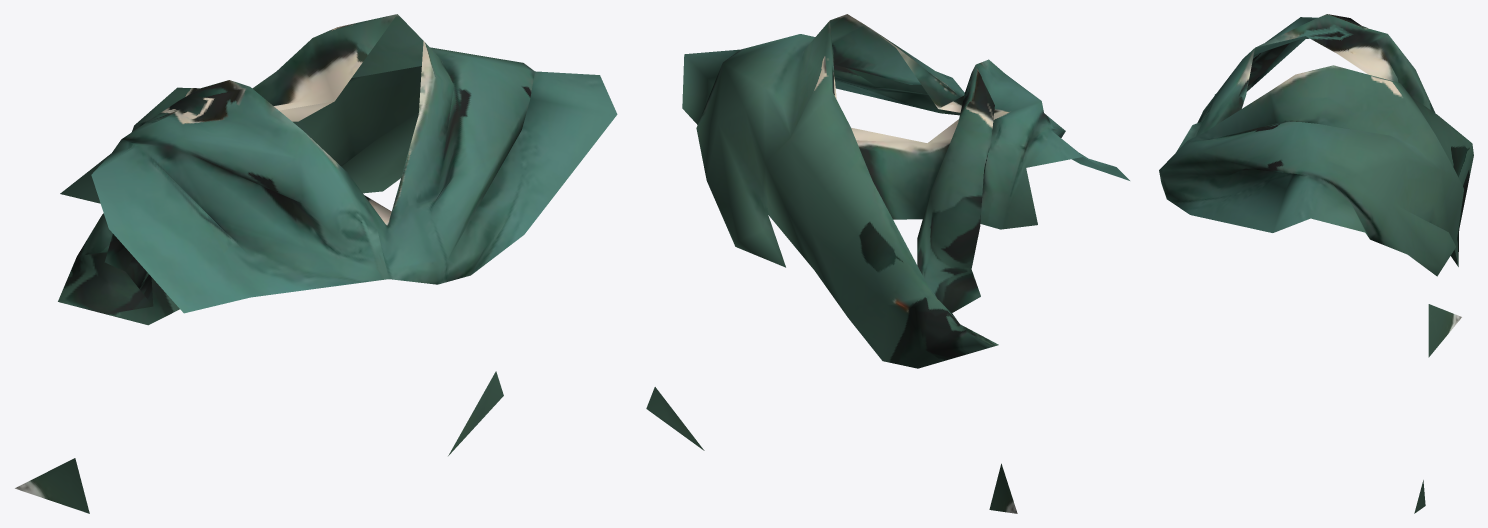
Rendered from 034-hood.glb.
The picture shows the model from 3 angles, left to right: view 1: azimuth 30°, elevation 25°; view 2: azimuth 150°, elevation 25°; view 3: azimuth 270°, elevation 25°; orthographic projection. The views are drawn at different scales.
Visible parts, largest first — view 1: geometry_0; view 2: geometry_0; view 3: geometry_0.
Boxes of the visible parts, x1=… form: geometry_0: x1=15, y1=14, x2=617, y2=513; geometry_0: x1=646, y1=14, x2=1129, y2=513; geometry_0: x1=1159, y1=14, x2=1473, y2=513.
Bounding box in the file's own units: 0.3855 × 0.3682 × 0.2569.
1 material, 1 textured.
